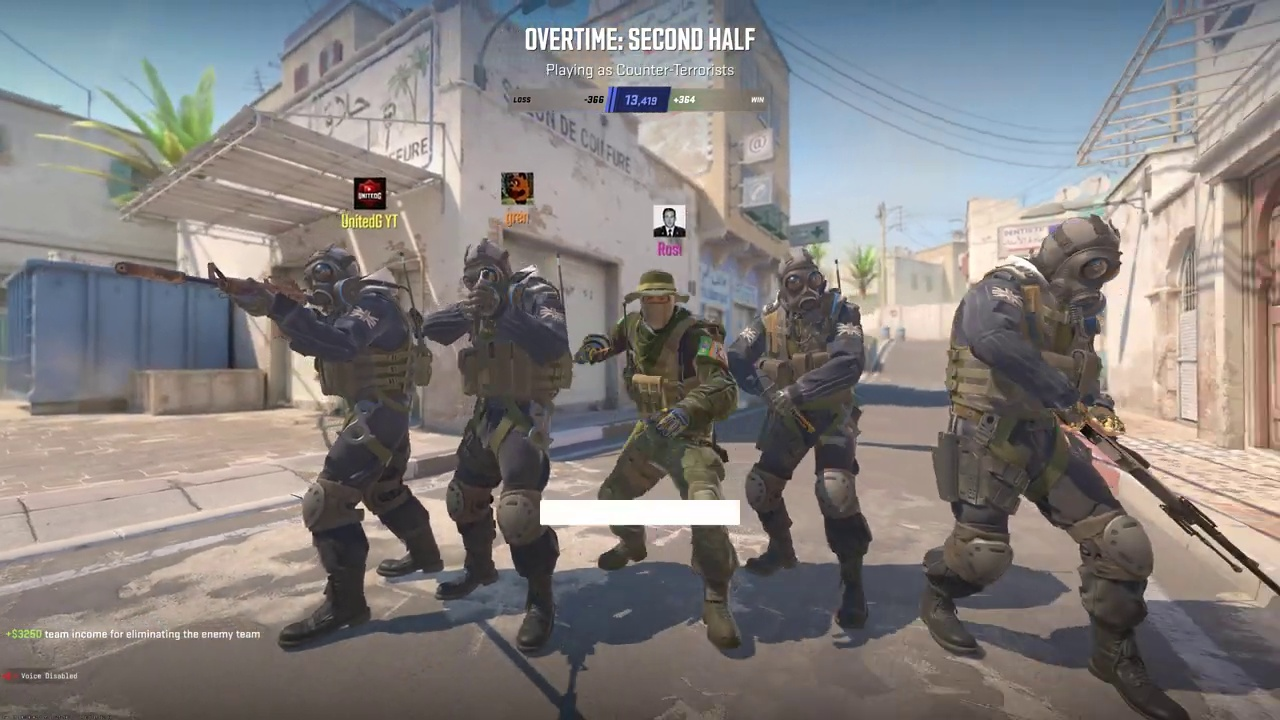CT: (927, 214, 1152, 673), (270, 244, 429, 640), (592, 272, 742, 639), (732, 254, 871, 634), (437, 241, 565, 641)
